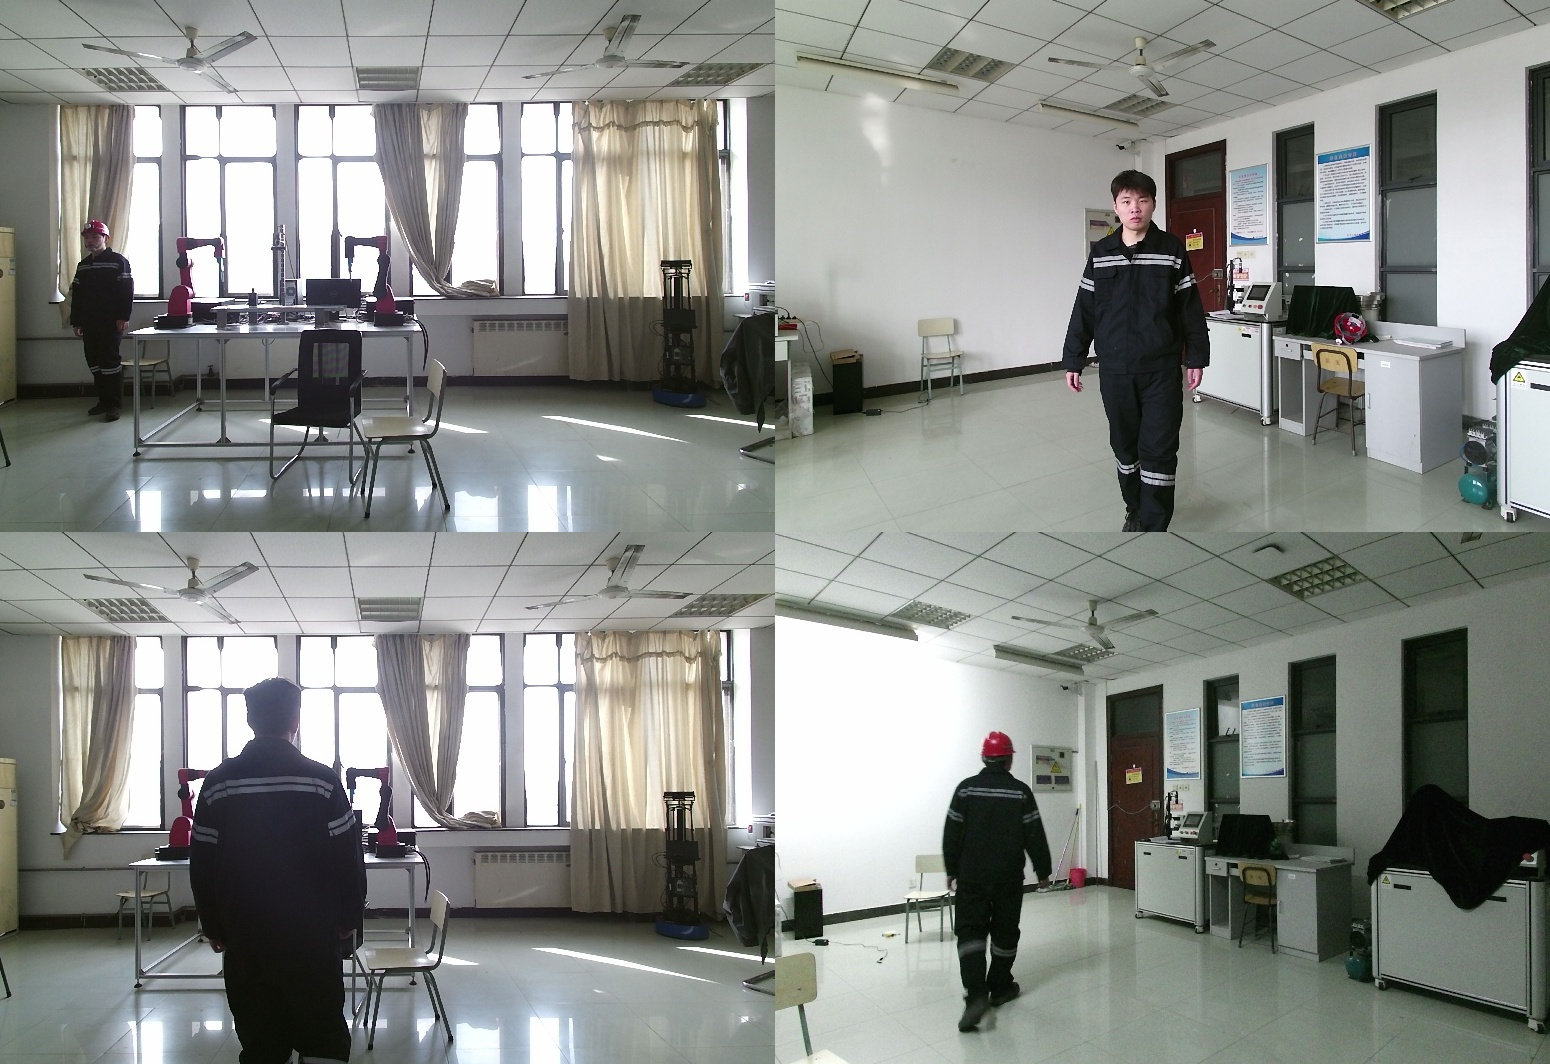person: (192, 679, 370, 1064), (1067, 172, 1216, 532), (932, 734, 1046, 1035), (59, 222, 133, 422)
